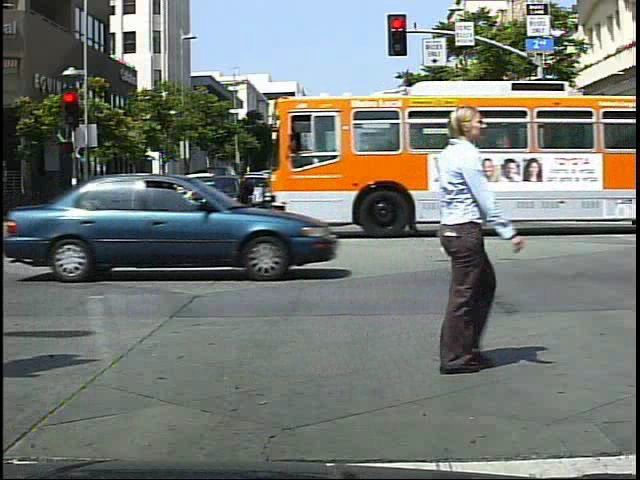person: (387, 87, 525, 388), (324, 164, 356, 228), (550, 160, 573, 211), (236, 166, 261, 210), (321, 166, 323, 230)
